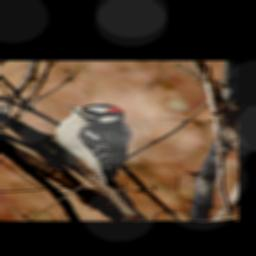Woodpecker: (49, 104, 131, 191)
